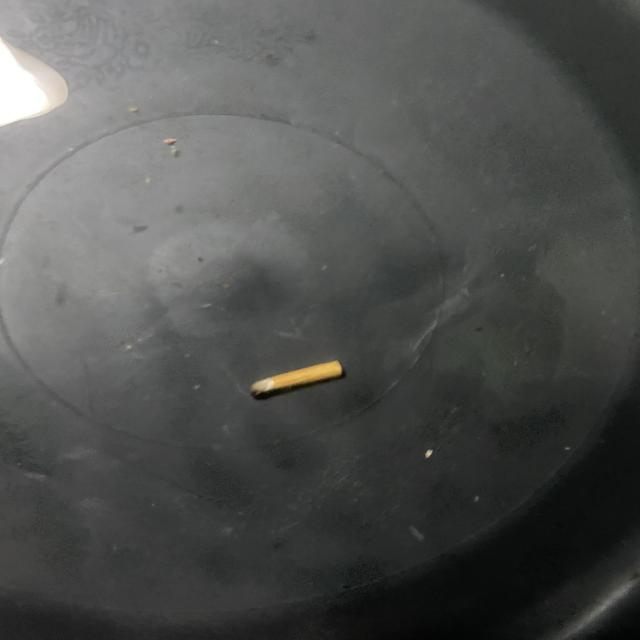Cigarette Filter: (251, 361, 345, 399)
